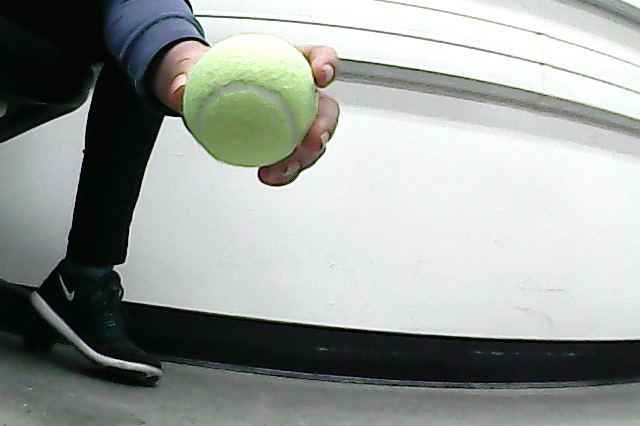ball: (180, 30, 322, 171)
